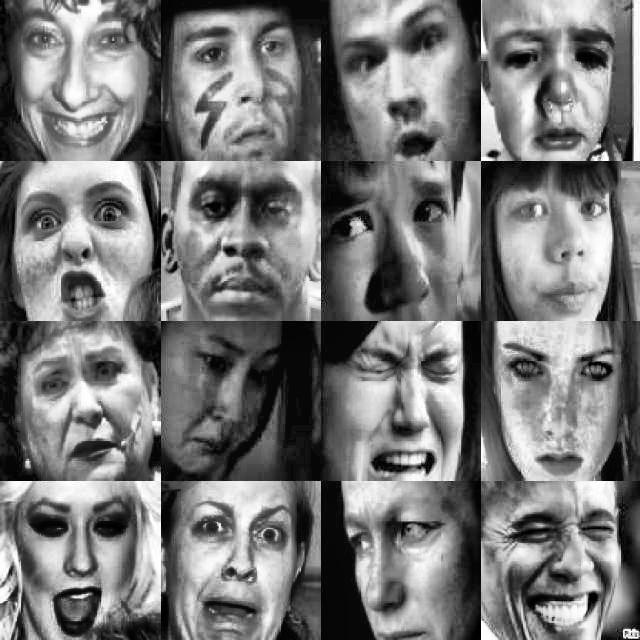angry: (4, 164, 160, 321), (335, 483, 479, 640), (12, 327, 160, 473), (488, 332, 630, 476)
fear: (174, 487, 319, 640), (330, 0, 472, 154)
happy: (9, 486, 145, 640), (6, 4, 152, 147), (489, 492, 621, 640)
neutral: (168, 169, 319, 317), (484, 169, 628, 317), (176, 17, 307, 166)
sad: (486, 6, 620, 152), (166, 333, 300, 476), (331, 177, 462, 321), (339, 334, 470, 478)
